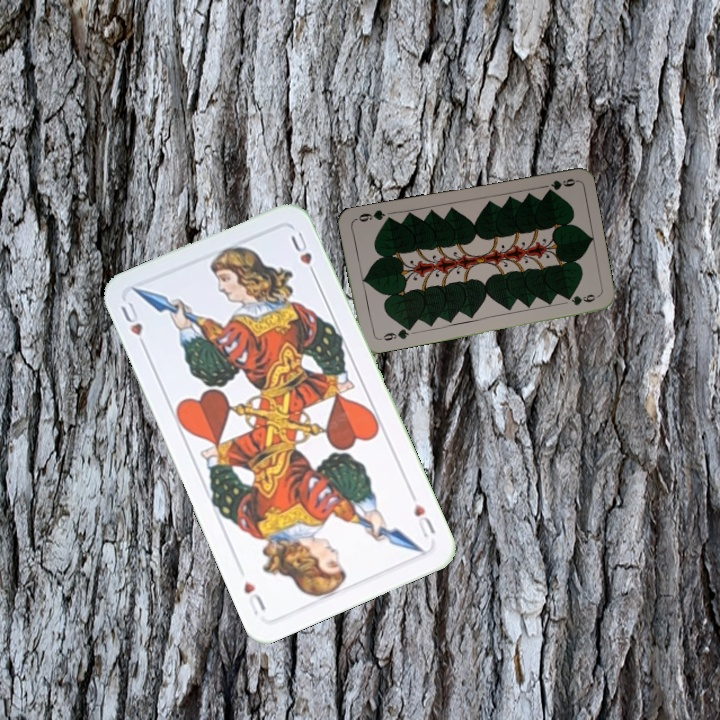G9: (374, 323, 414, 344), (543, 174, 578, 195)
HU: (117, 296, 150, 353), (410, 500, 438, 541)
